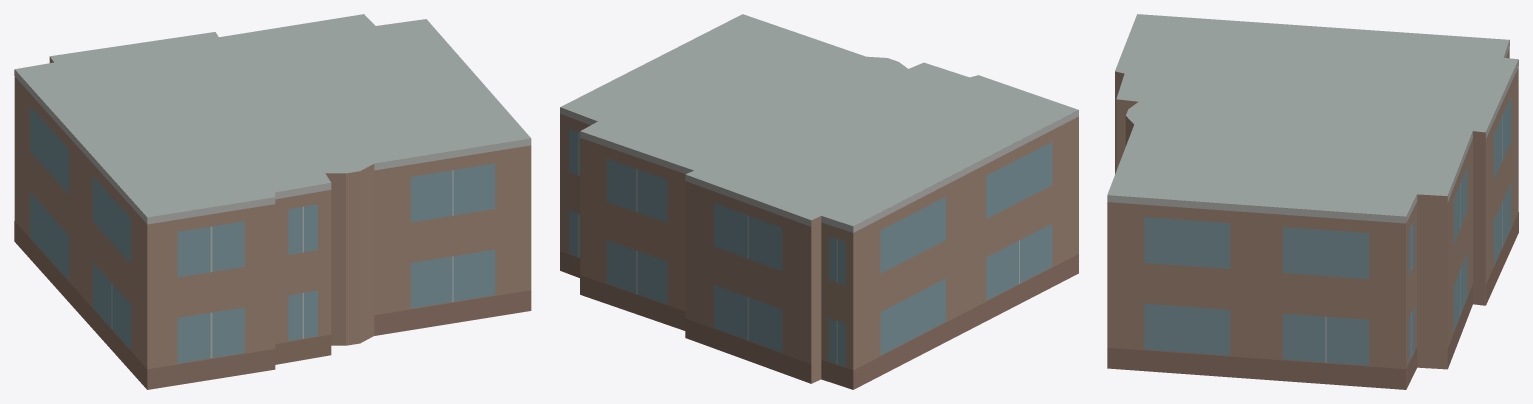
File: survey-upis-32969805.glb
3 renders of one model, left to right at view 1: azimuth 30°, elevation 25°; view 2: azimuth 150°, elevation 25°; view 3: azimuth 270°, elevation 25°, orthographic. The views are drawn at different scales.
Visible parts, largest first — view 1: survey-upis-32969805.tmp; view 2: survey-upis-32969805.tmp; view 3: survey-upis-32969805.tmp.
Part boxes in pixels (x1,y1,x2,y2): survey-upis-32969805.tmp: (14, 14, 531, 389); survey-upis-32969805.tmp: (560, 14, 1078, 389); survey-upis-32969805.tmp: (1107, 14, 1518, 389).
Size of the model in its own units: 15.31 by 6.1 by 13.14.
